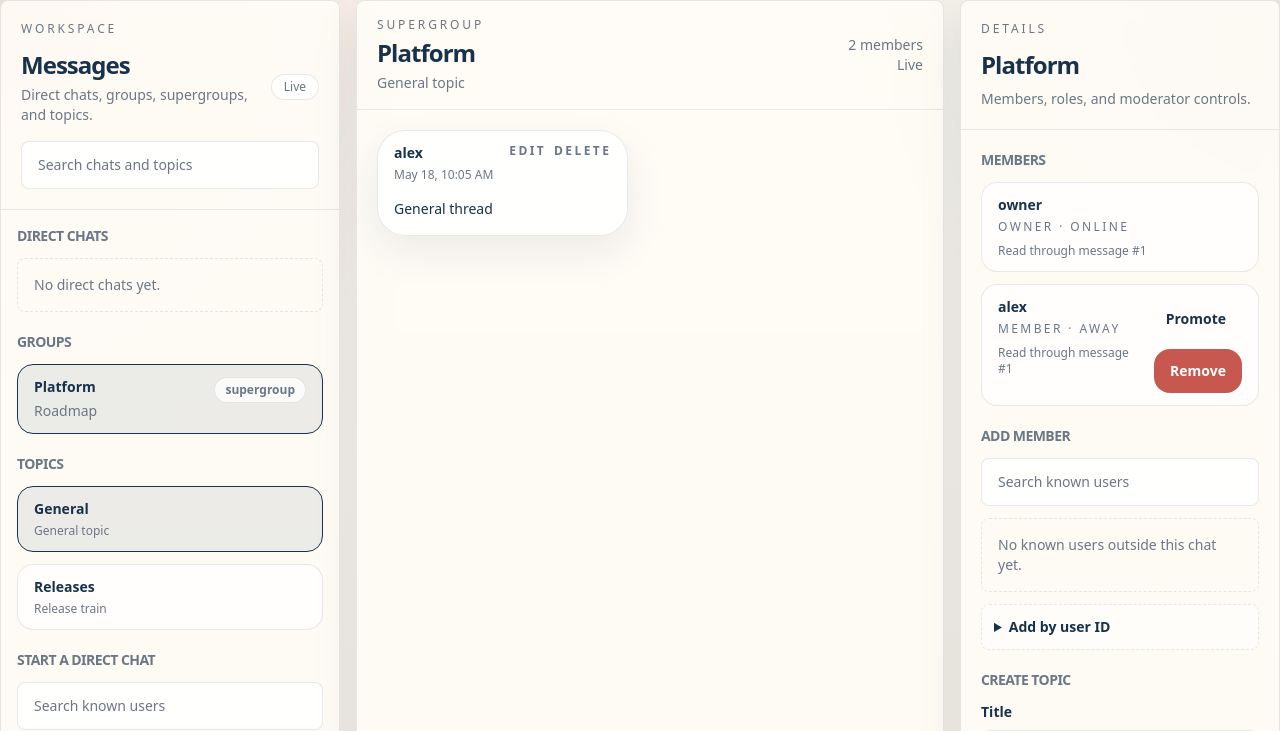
Scenario: MessengerWorkspace › switches between supergroup topics and isolates messages
expect the text "General thread" is shown: met, box [394, 199, 493, 218]
What coordinates should you click on to do the following:
click the button "Releases Release train"
I would click on:
 (64, 586)
Its box is [17, 564, 323, 630].
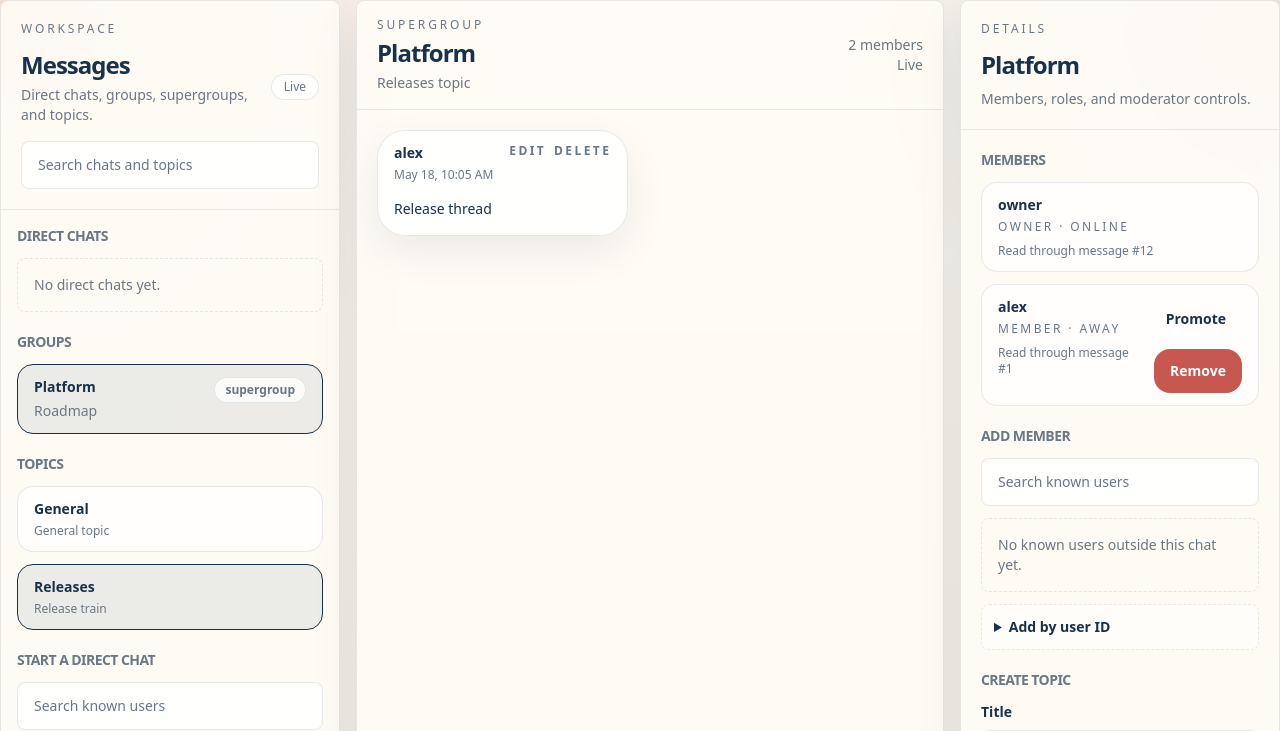
expect the text "Release thread" is shown: met, box [394, 199, 492, 218]
expect the text "General thread" is gone: met
